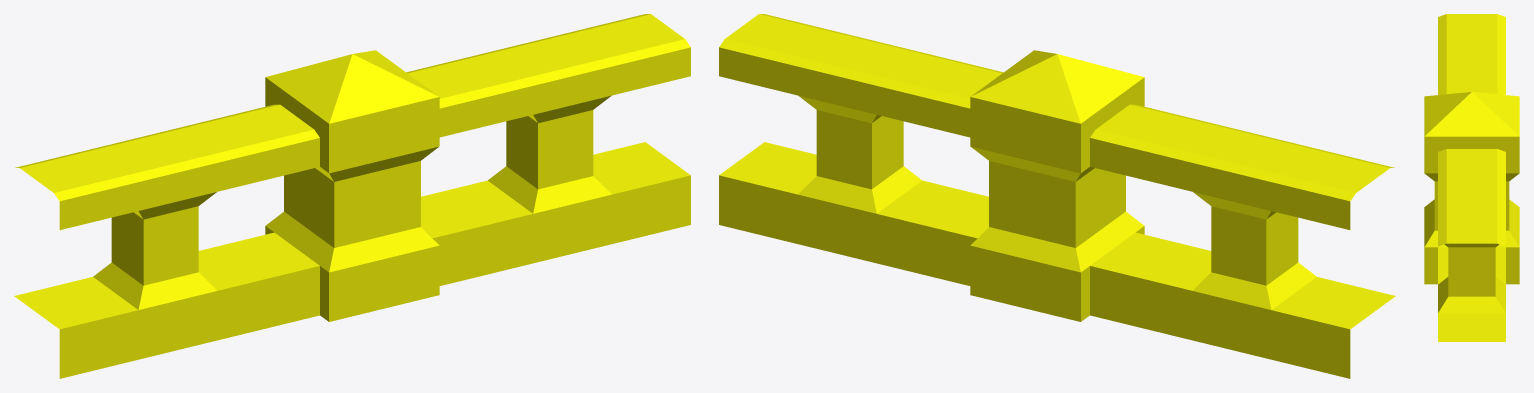
Rendered from kaykit-barrier-column.glb.
3 renders of one model, left to right at view 1: azimuth 30°, elevation 25°; view 2: azimuth 150°, elevation 25°; view 3: azimuth 270°, elevation 25°, orthographic. The views are drawn at different scales.
Parts seen in each view (by area): view 1: barrier_column; view 2: barrier_column; view 3: barrier_column.
Part boxes in pixels (box(x1,y1,x2,y2)): barrier_column: box(14, 14, 690, 378); barrier_column: box(719, 14, 1395, 378); barrier_column: box(1424, 14, 1519, 341).
Size of the model in its own units: 4 by 1.4 by 0.6997.
